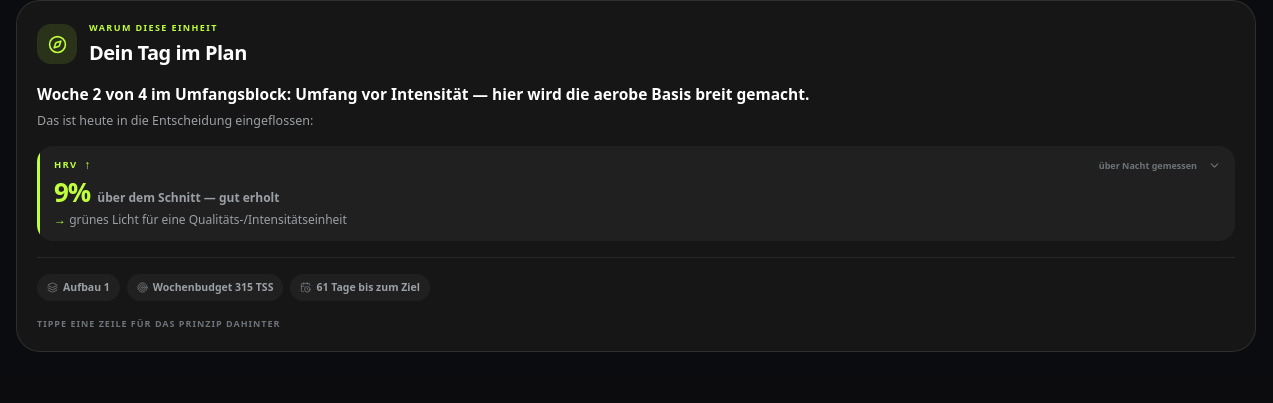
Test case: W3WhyToday › reveals the principle behind a reason on tap
Expected: the text "starke autonome Erholung" is not shown
Click the text "HRV" at (66, 165), box [54,158,77,173]
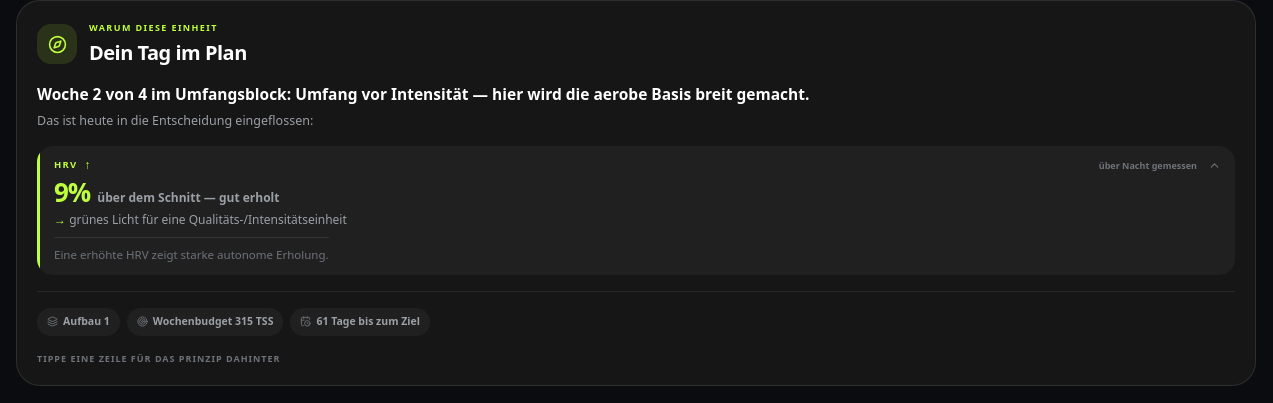
Expected: the text "Eine erhöhte HRV zeigt starke autonome Erholung." is shown, [54,236,329,263]
